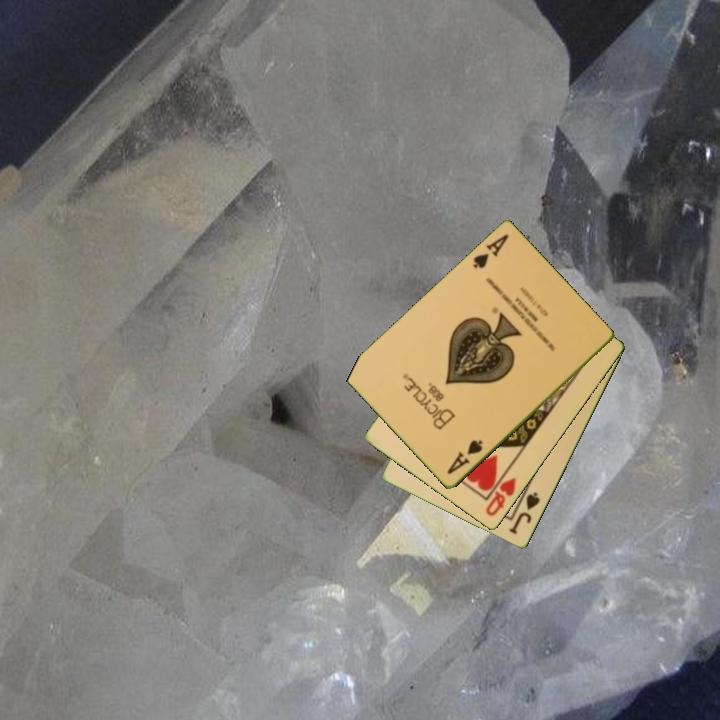As: (443, 437, 486, 478), (469, 231, 512, 272)
Js: (505, 489, 543, 537)
Qh: (482, 474, 519, 519)
